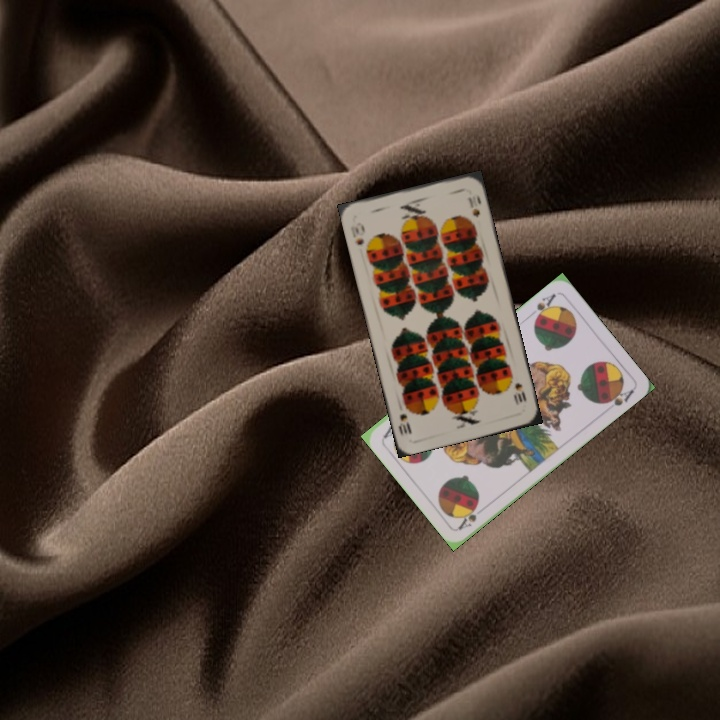S10: (346, 218, 367, 248), (511, 379, 529, 408)
SA: (454, 501, 489, 532), (530, 289, 559, 324)
